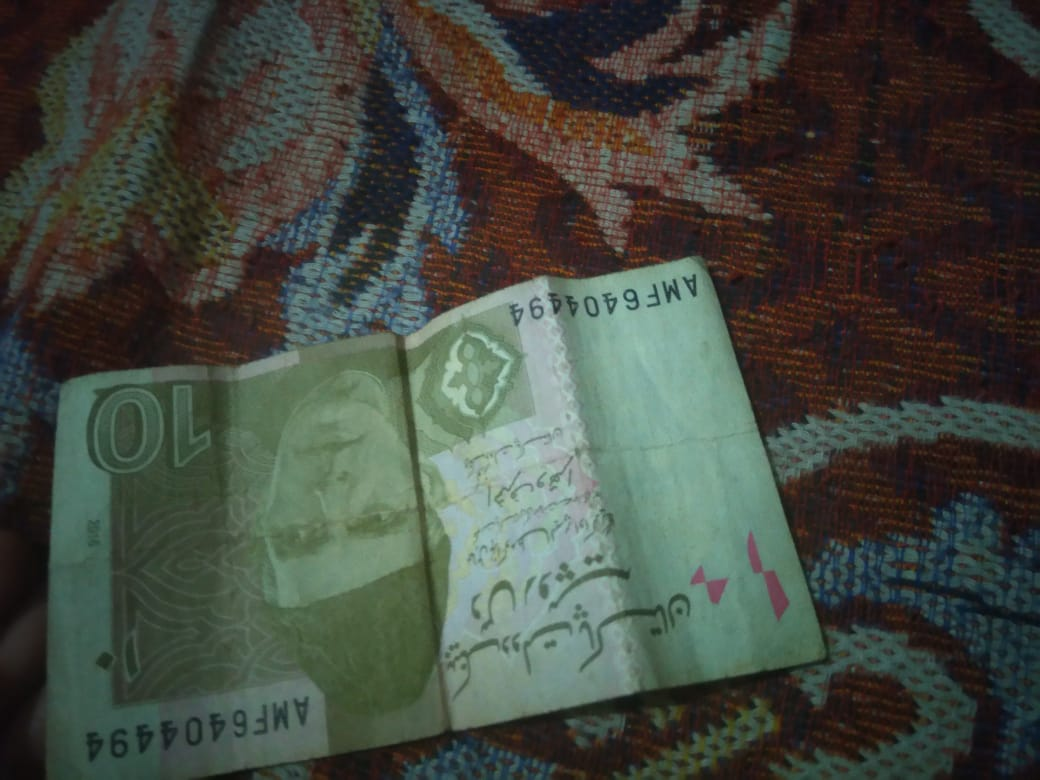10 rupee: (52, 262, 830, 770)
